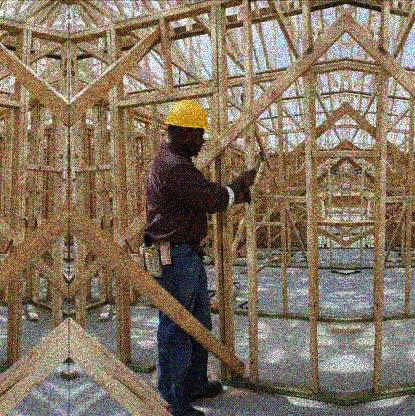helmet: (166, 99, 207, 155)
